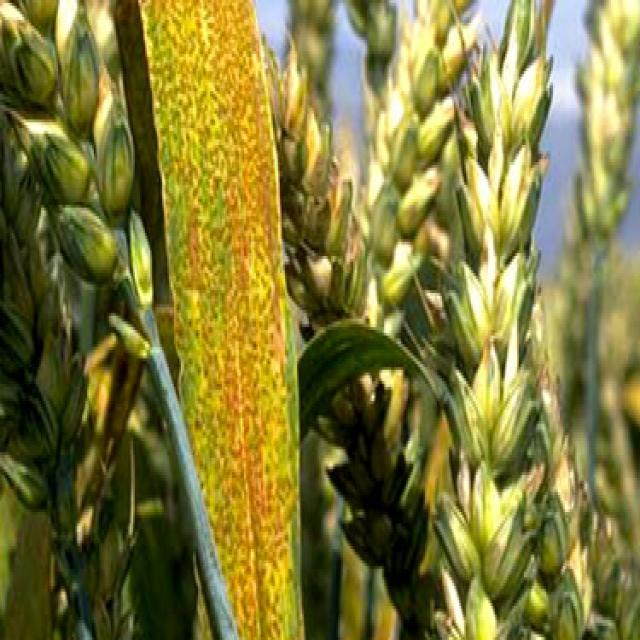leaf rust: (188, 387, 304, 631), (134, 3, 270, 202), (169, 216, 288, 376)
